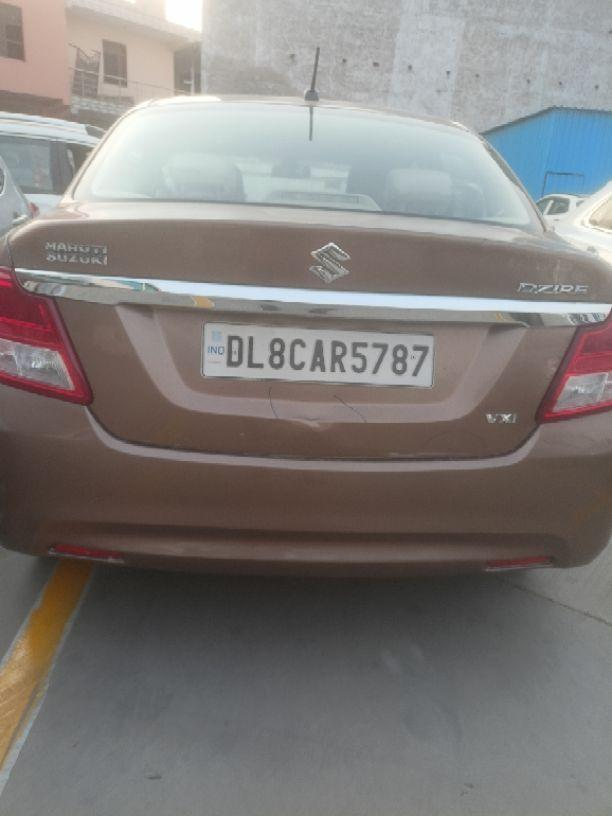license_plate: (199, 320, 435, 388)
